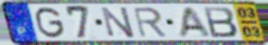7: (63, 5, 93, 42)
A: (176, 6, 213, 39)
B: (201, 6, 240, 39)
G: (34, 6, 67, 40)
N: (99, 6, 138, 39)
R: (131, 6, 170, 39)
